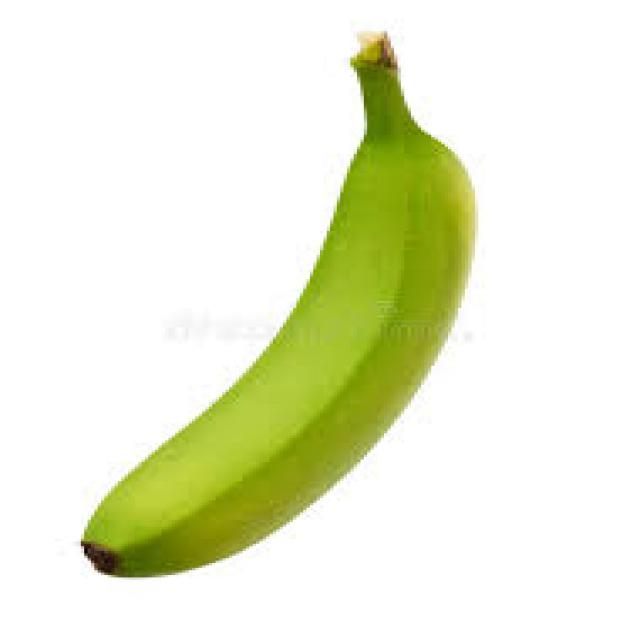organic waste: (81, 29, 468, 575)
